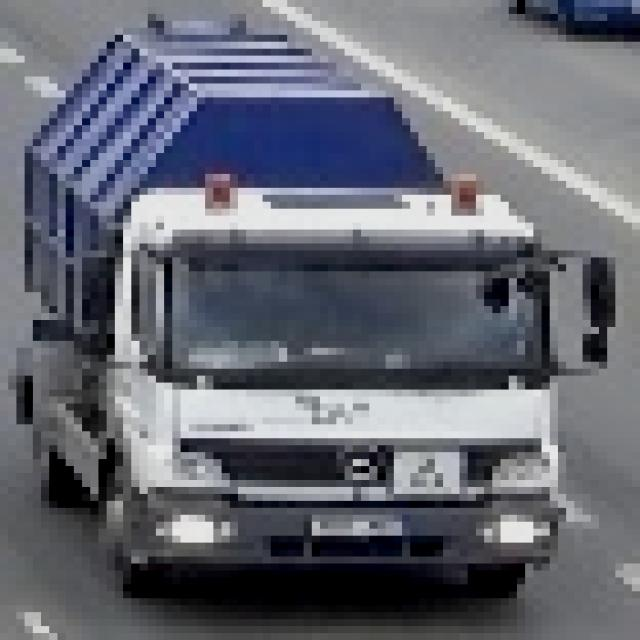truck: (9, 8, 608, 592)
